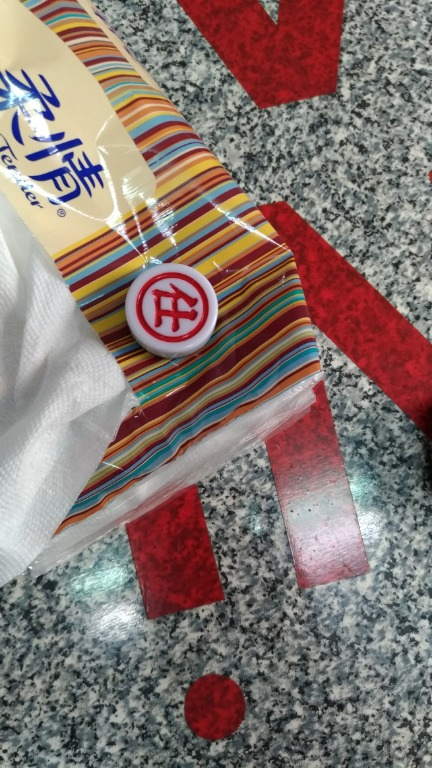r-advisor: (114, 258, 257, 366)
